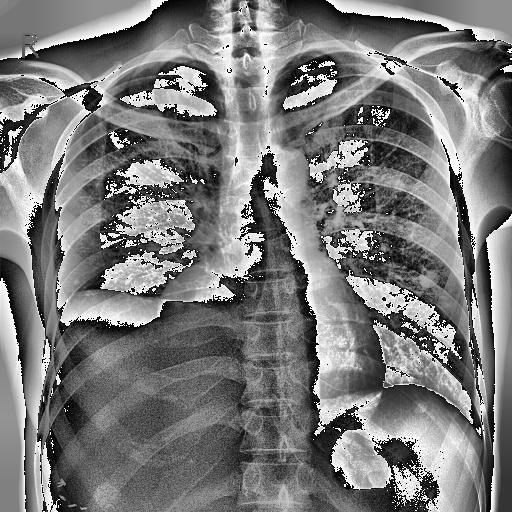10- Pleural effusion: (49, 289, 243, 399), (59, 278, 227, 398), (49, 286, 196, 410)
11- Pleural thickening: (104, 60, 218, 86)
8- Nodule-Mass: (418, 267, 442, 289), (417, 268, 440, 288), (420, 272, 442, 288)
9- Other lesion: (59, 278, 227, 398), (49, 286, 196, 410), (156, 256, 230, 320)
